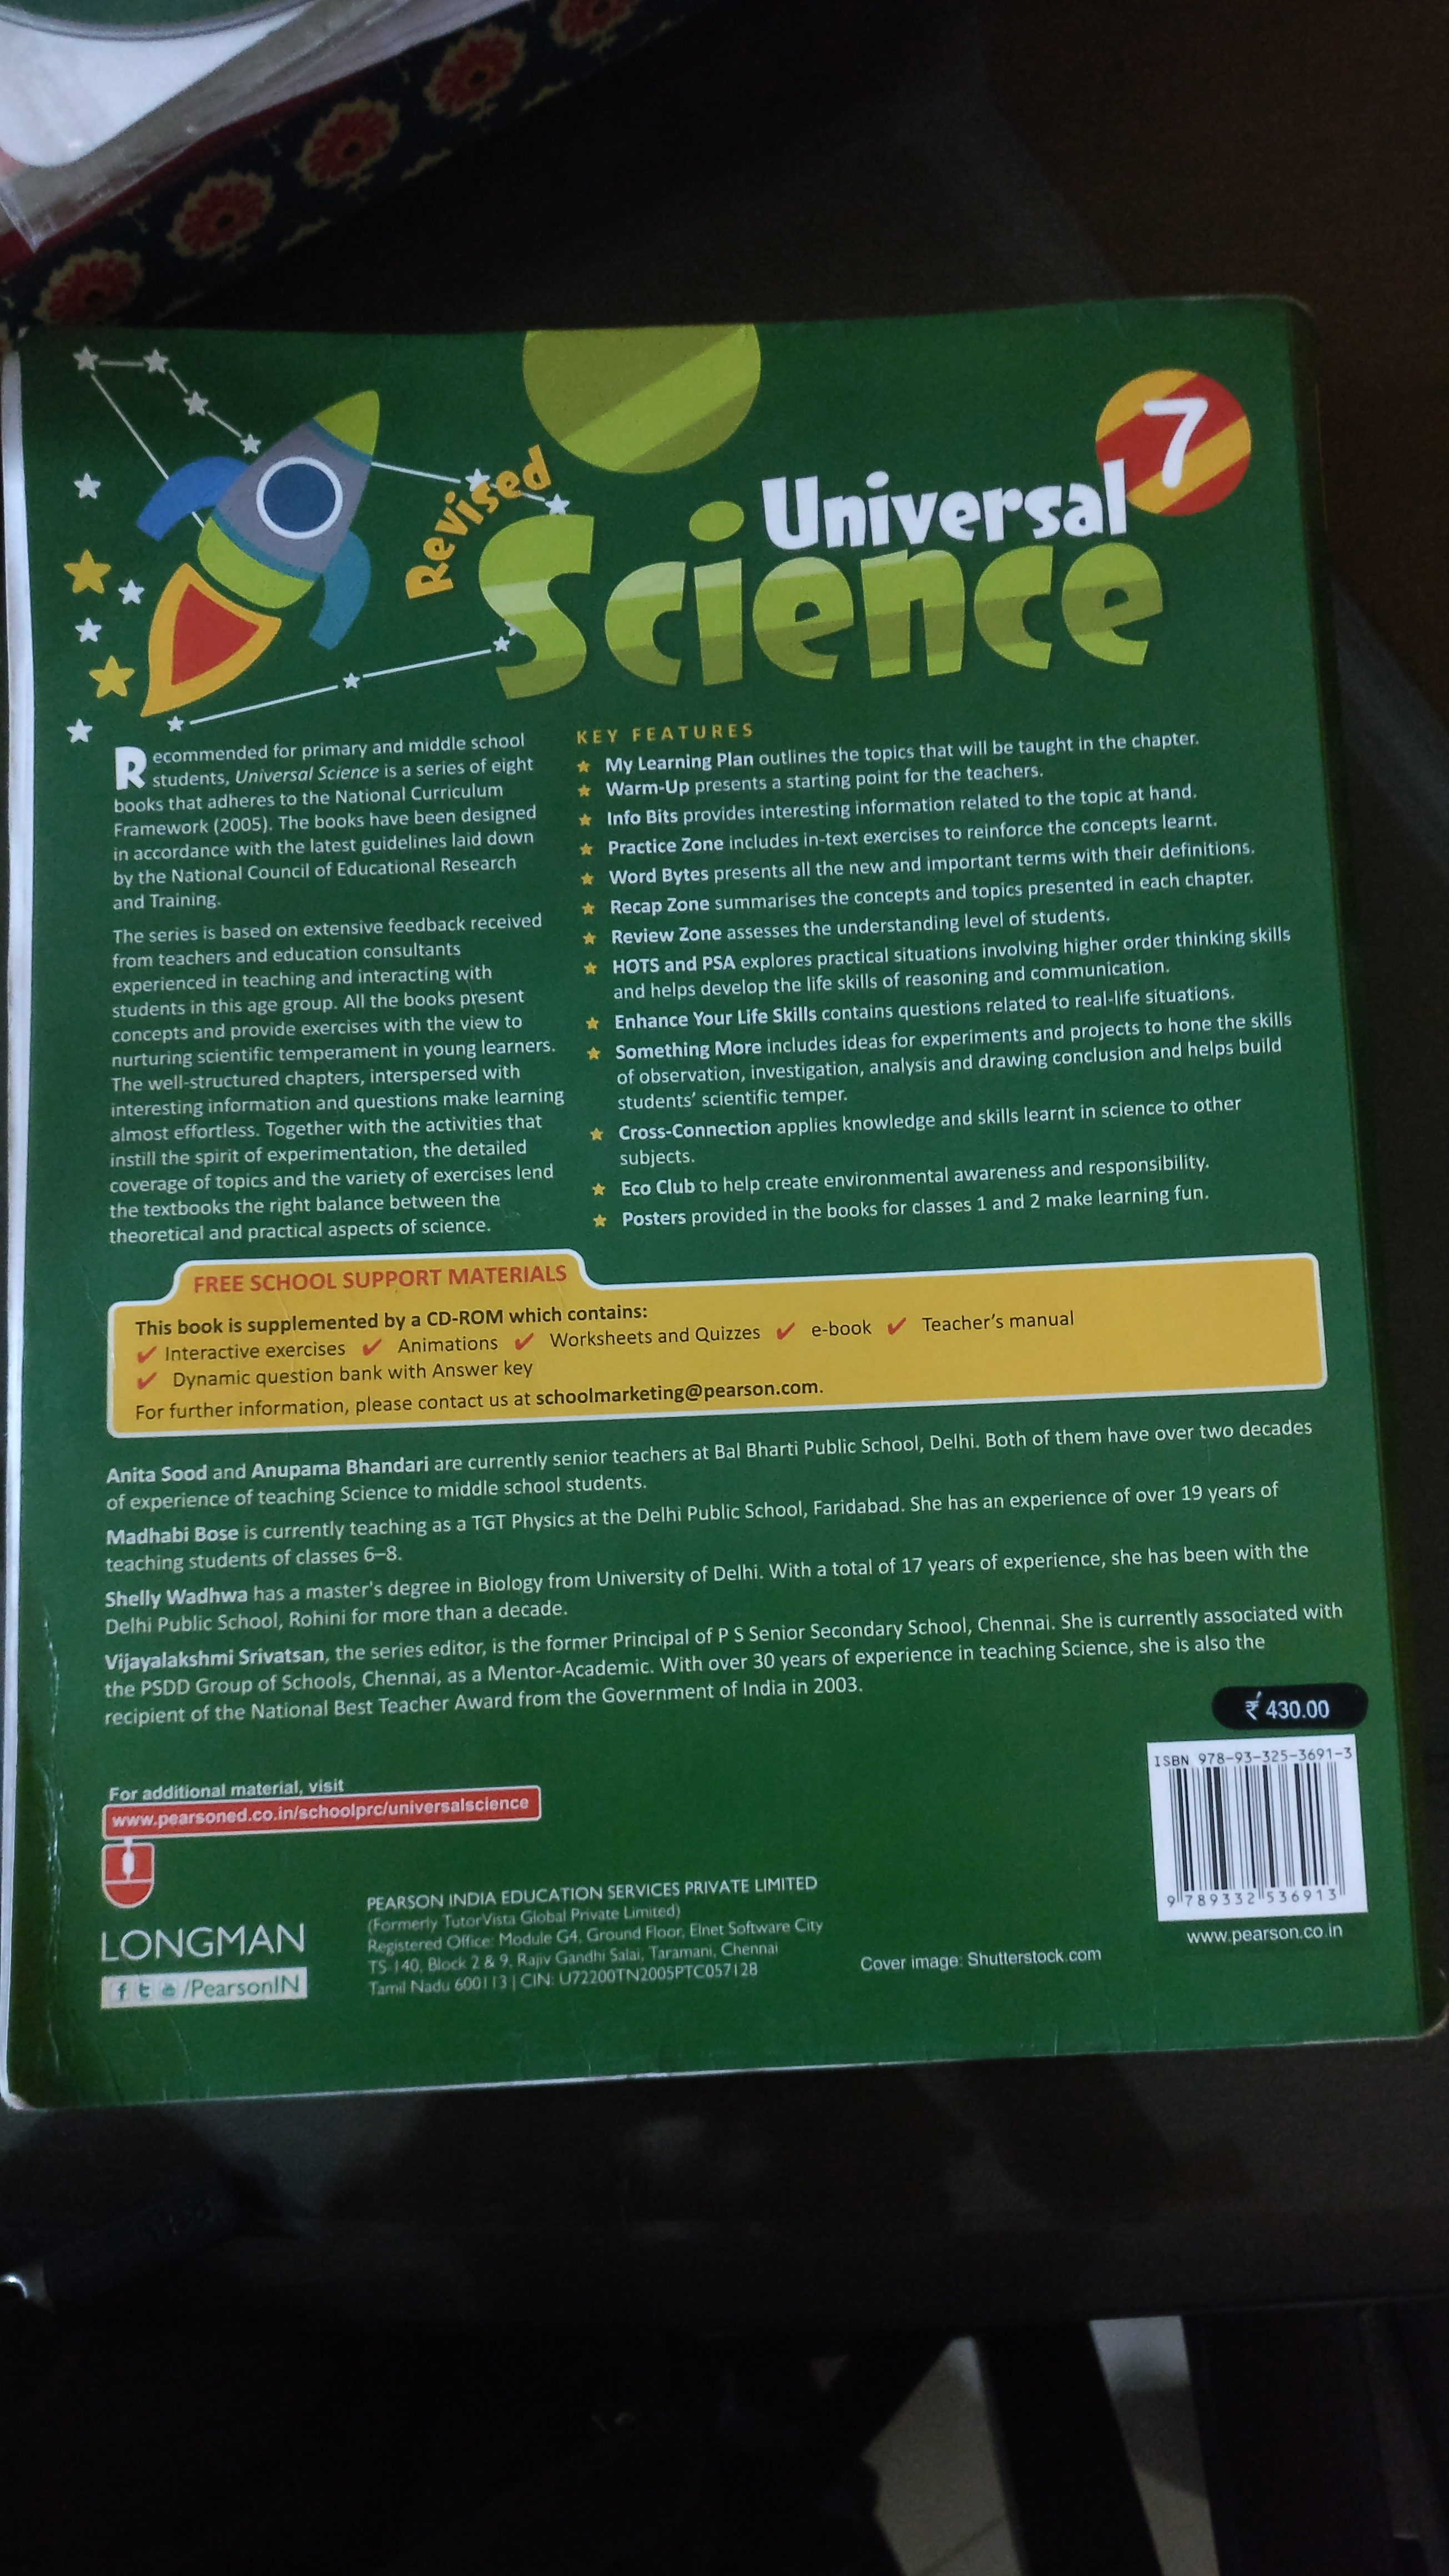barcode: (1161, 1736, 1384, 1932)
